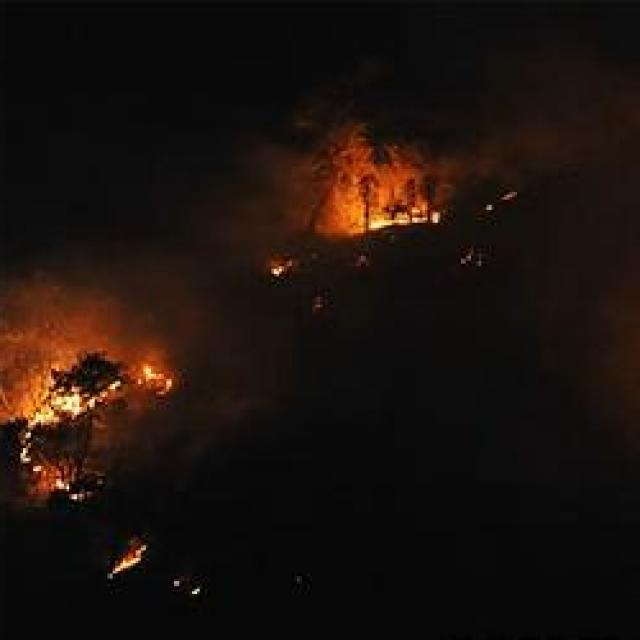fire: (306, 163, 445, 239), (18, 390, 94, 428), (130, 360, 182, 400), (108, 544, 150, 582)
smoke: (11, 280, 130, 350)
